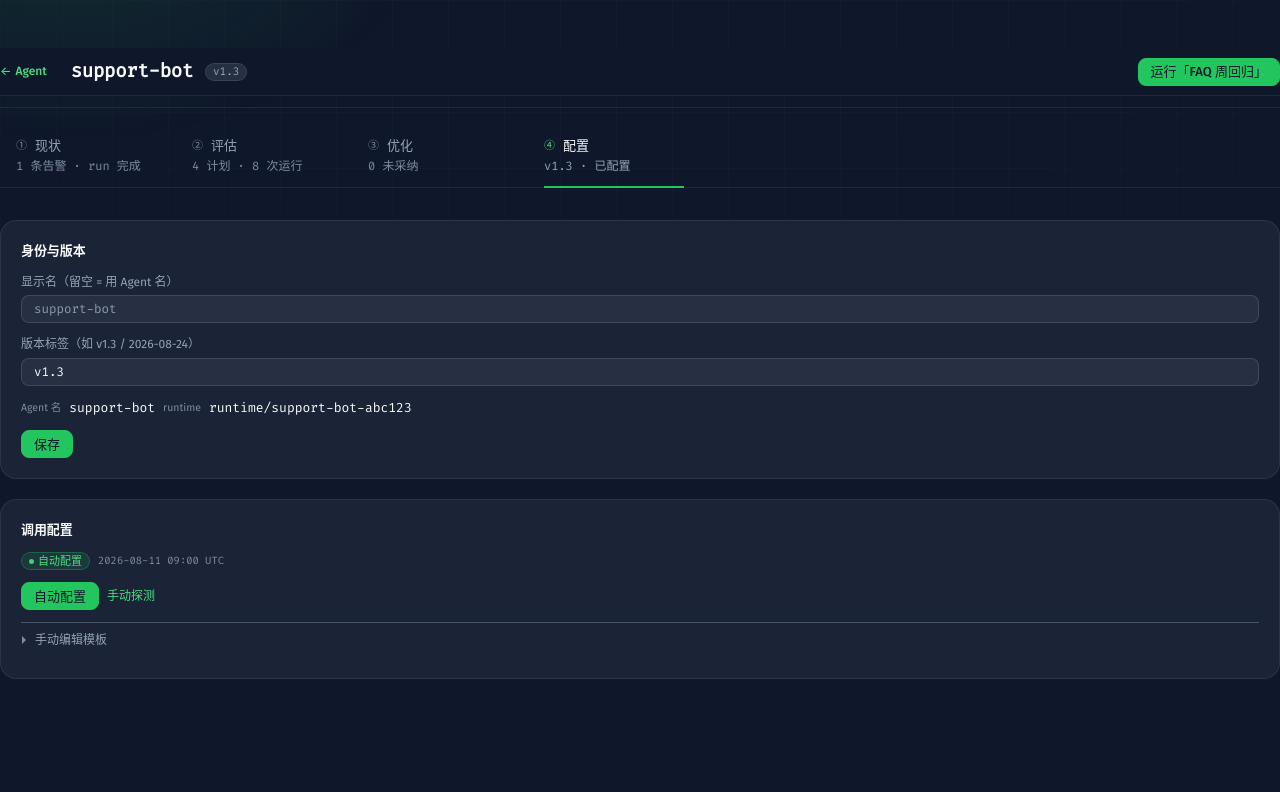
Test: AgentDetailPage 自动配置 › 态 saved：绿 ✓ 已自动配置 + 路径 chip + vmeta + 折叠详情 + 改为手动
The width and height of the screenshot is (1280, 792).
Step 1. Click the button with test id "agent-autoconf-btn" → [60, 596], box x1=21 y1=582 x2=99 y2=610
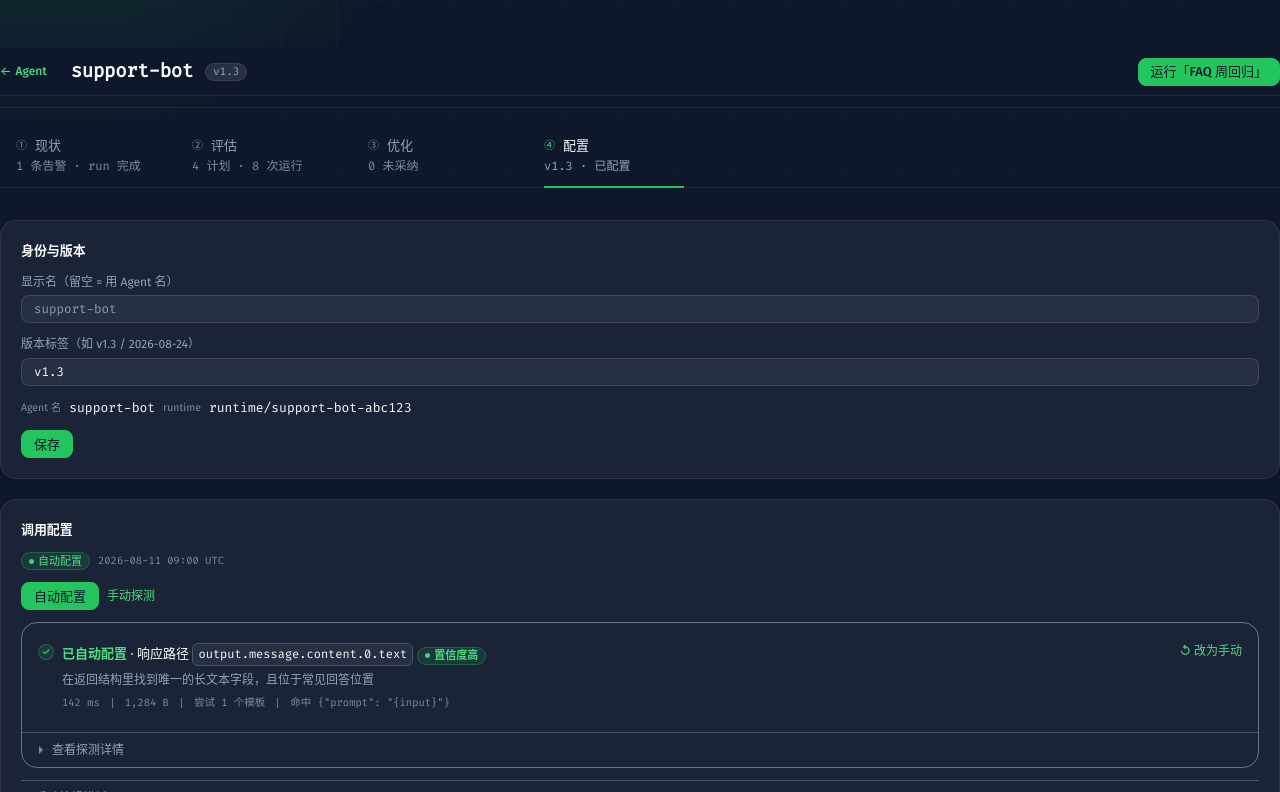
Check: the element with test id "autoconf-saved" shows "已自动配置", box x1=62 y1=646 x2=127 y2=661
Check: the text with test id "autoconf-path" reads "output.message.content.0.text", box x1=198 y1=646 x2=407 y2=662
Check: the element with test id "autoconf-saved" shows "置信度高", box x1=434 y1=649 x2=478 y2=662
